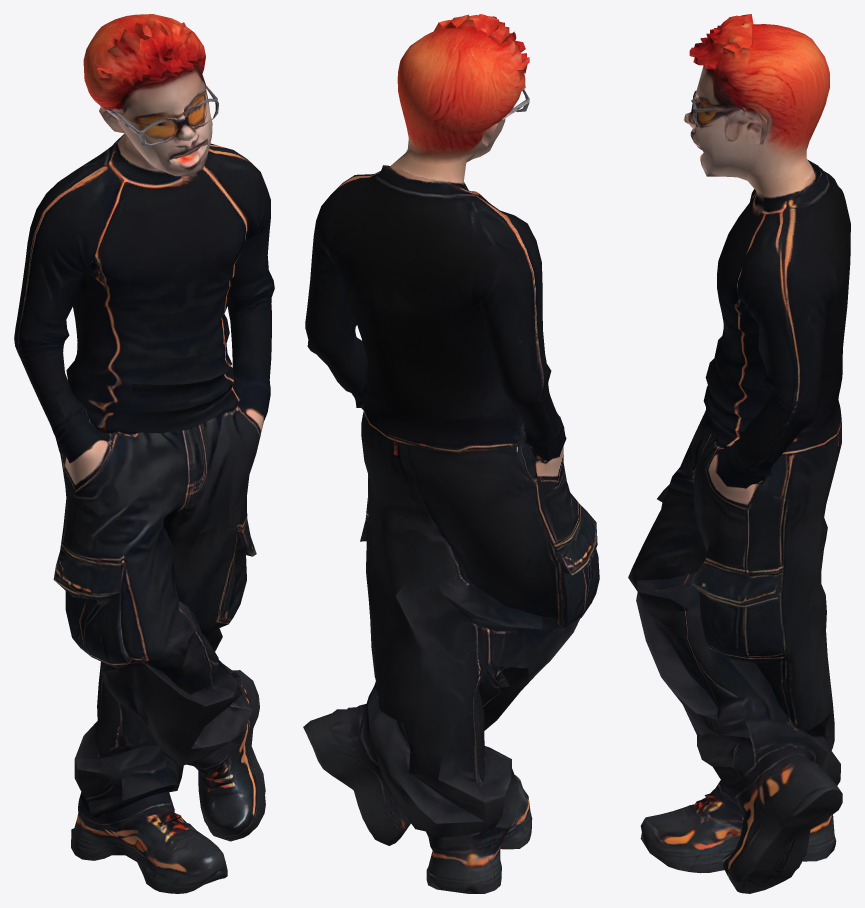
The model's file is gusi.glb.
3 renders of one model, left to right at view 1: azimuth 30°, elevation 25°; view 2: azimuth 150°, elevation 25°; view 3: azimuth 270°, elevation 25°, orthographic.
Parts seen in each view (by area): view 1: model; view 2: model; view 3: model.
Boxes of the visible parts, x1,y1,x2,y2 form: model: (14, 14, 274, 893); model: (303, 14, 599, 893); model: (628, 14, 850, 893).
Bounding box in the file's own units: 0.3033 × 1 × 0.2417.
Materials: 1 (1 with a texture image).
